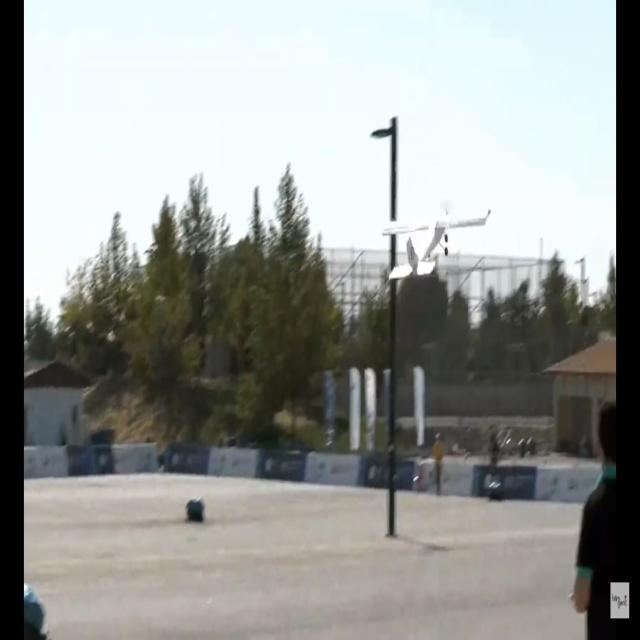iha: (412, 228, 459, 249)
